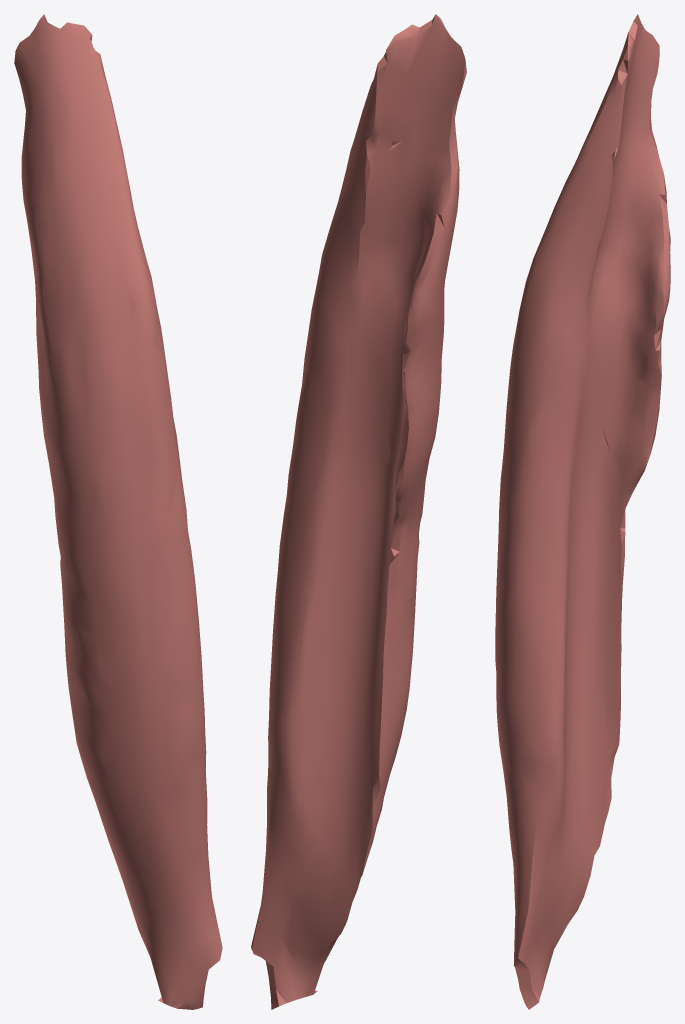
The model's file is fma38934_mm1680m.glb.
3 renders of one model, left to right at view 1: azimuth 30°, elevation 25°; view 2: azimuth 210°, elevation 25°; view 3: azimuth 270°, elevation 25°, orthographic. The views are drawn at different scales.
Parts seen in each view (by area): view 1: FMA38934_MM1680M; view 2: FMA38934_MM1680M; view 3: FMA38934_MM1680M.
Part boxes in pixels (x1=…): FMA38934_MM1680M: x1=14, y1=14, x2=222, y2=1009; FMA38934_MM1680M: x1=251, y1=14, x2=466, y2=1009; FMA38934_MM1680M: x1=495, y1=14, x2=670, y2=1009.
Size of the model in its own units: 0.0555 by 0.3601 by 0.0605.
